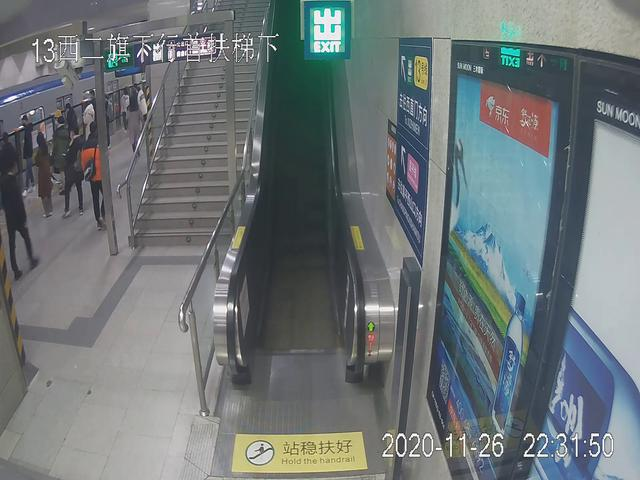person: (1, 158, 41, 282), (82, 119, 108, 232), (62, 125, 85, 217), (32, 131, 55, 217), (17, 113, 37, 192)
